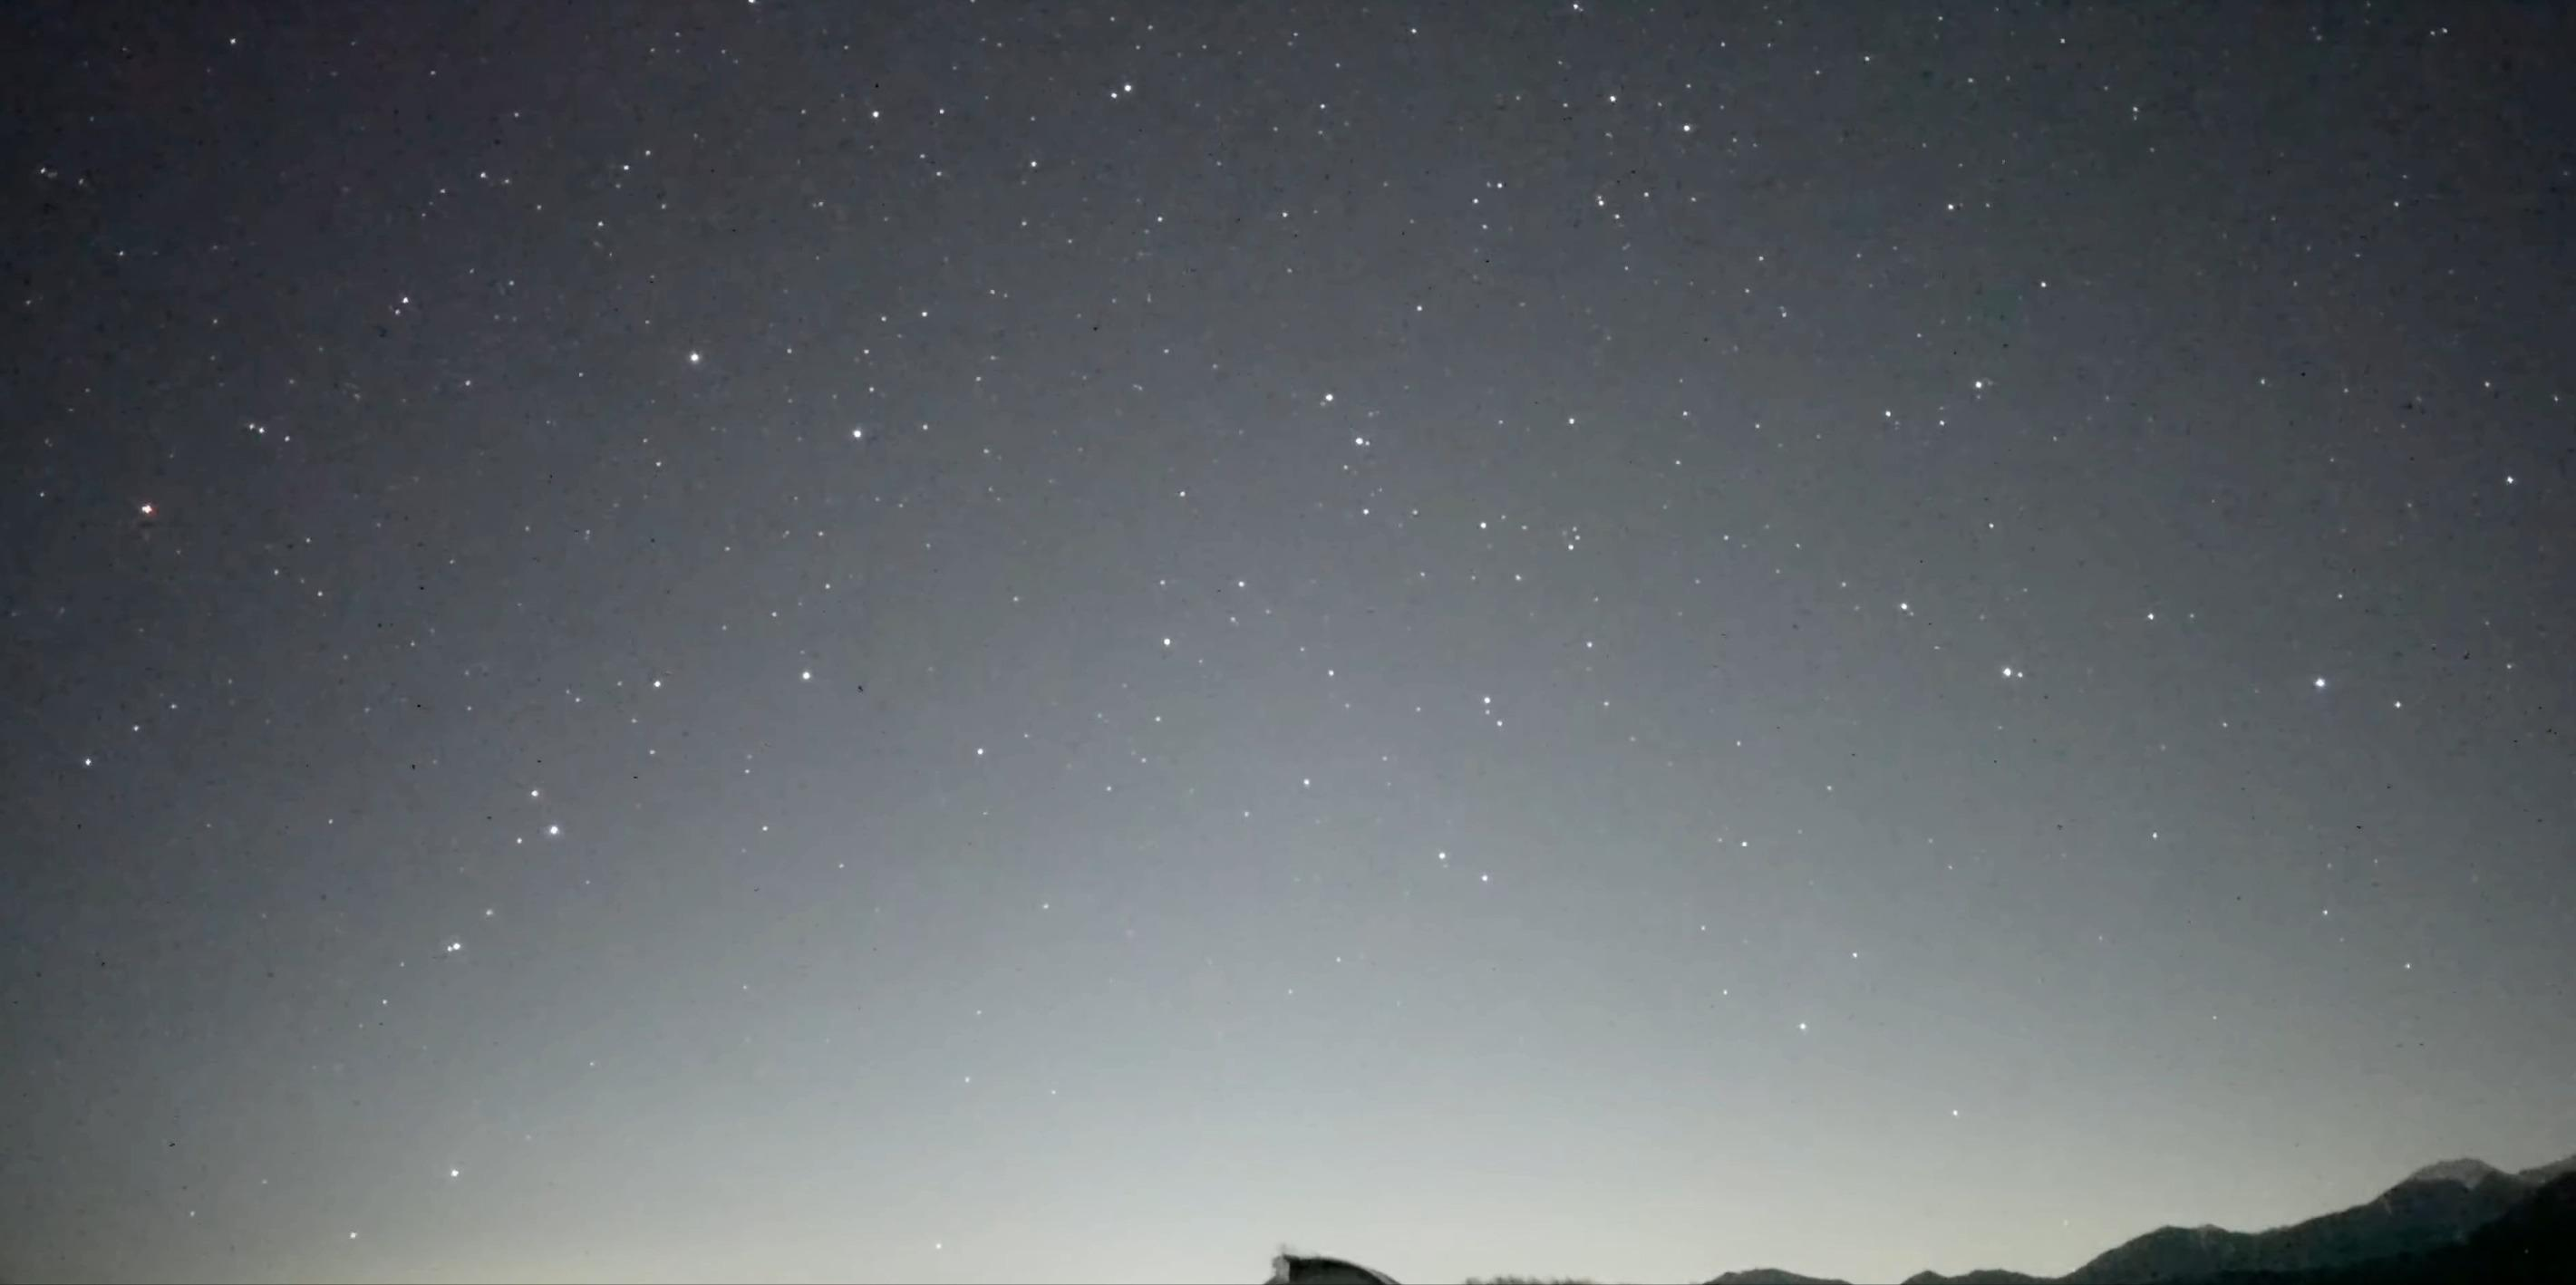Plane: (519, 777, 550, 805), (136, 493, 163, 516)
